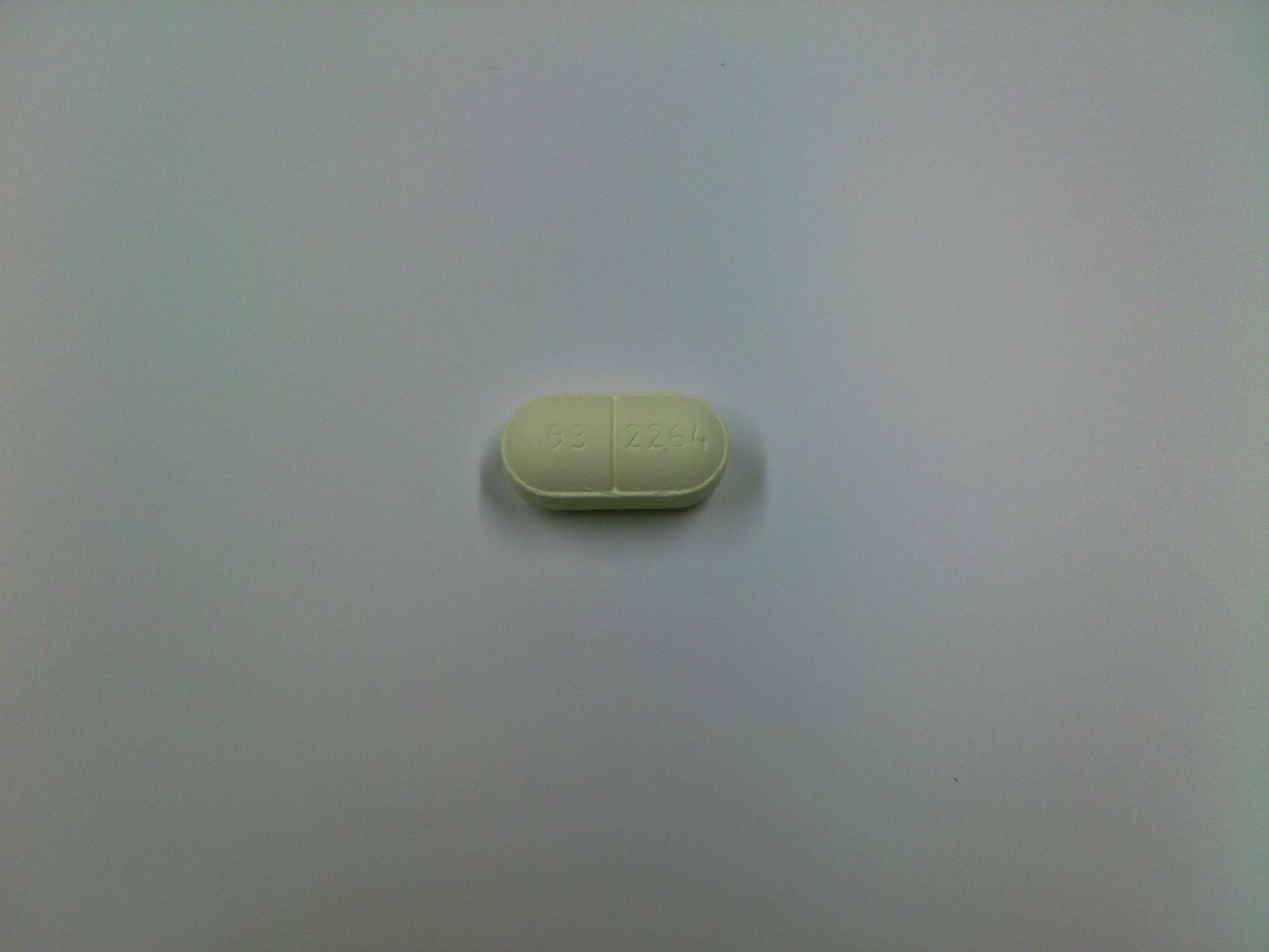Pill: (490, 387, 739, 519)
